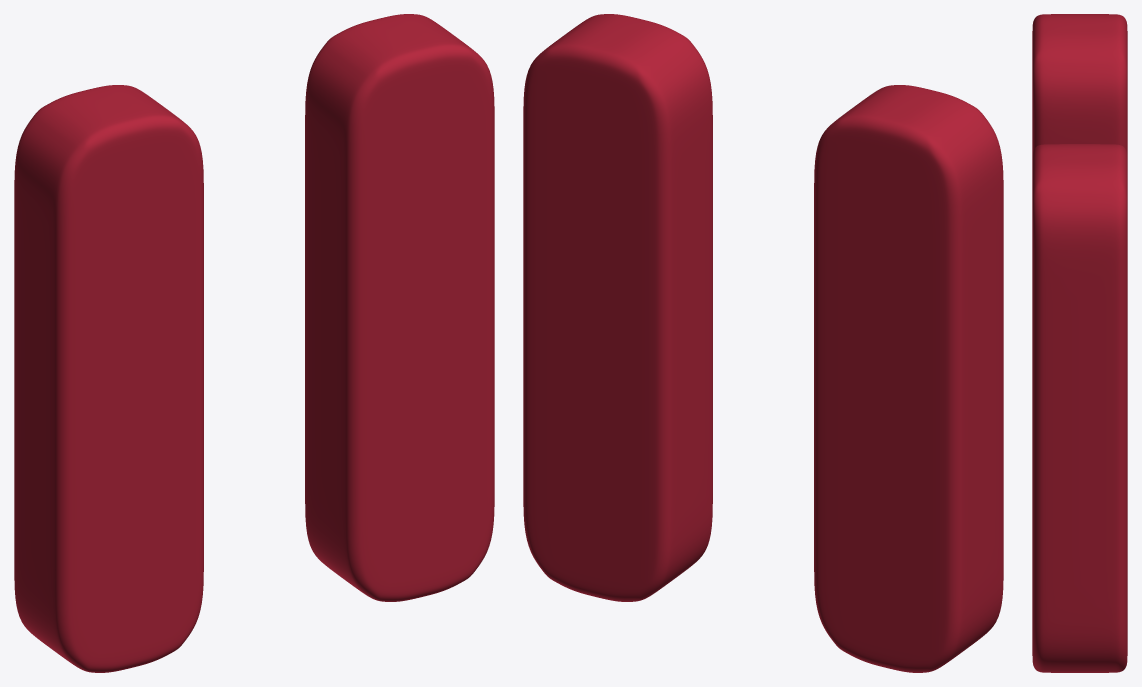
The model's file is pause.fbx.
The picture shows the model from 3 angles, left to right: view 1: azimuth 30°, elevation 25°; view 2: azimuth 150°, elevation 25°; view 3: azimuth 270°, elevation 25°; orthographic projection. The views are drawn at different scales.
Visible parts, largest first — view 1: Cube; view 2: Cube; view 3: Cube.
Part boxes in pixels (x1,y1,x2,y2): Cube: [14, 14, 494, 672]; Cube: [523, 14, 1003, 672]; Cube: [1032, 14, 1127, 672].
Size of the model in its own units: 145 by 173 by 29.64.
